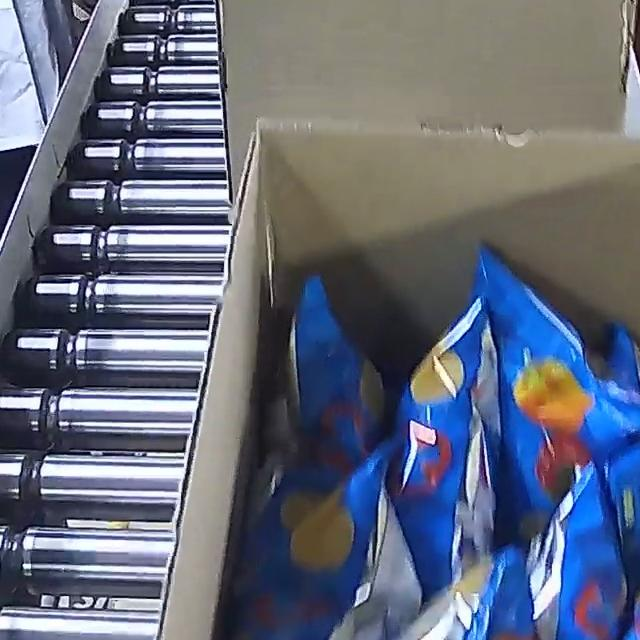paprika: (209, 242, 640, 640)
